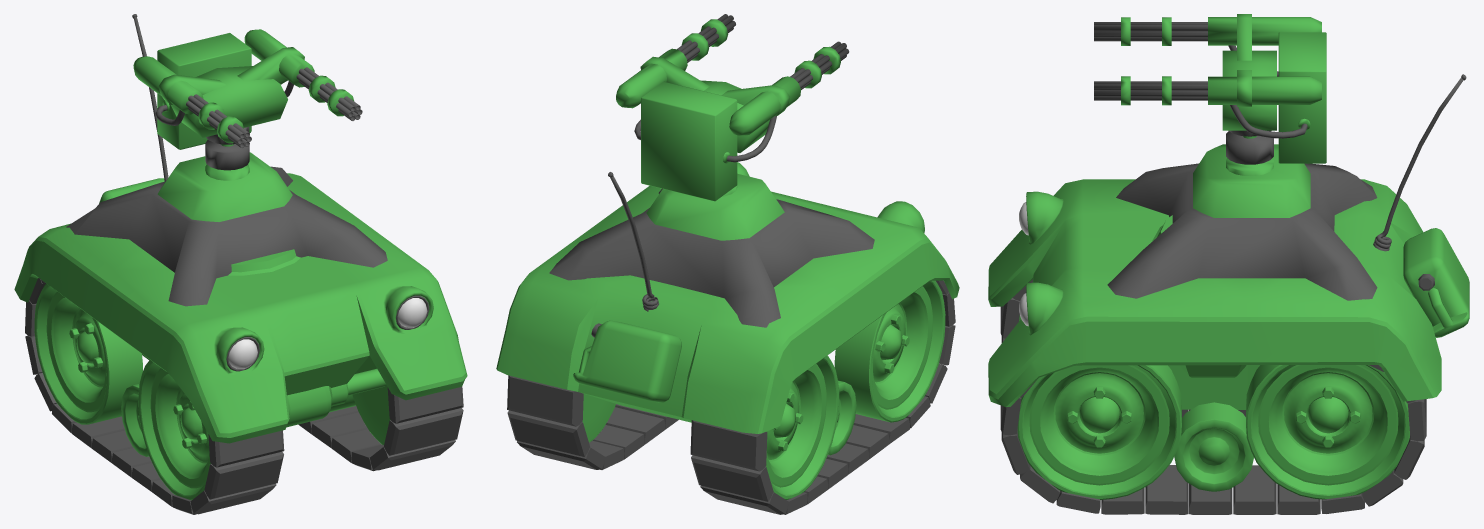
Rendered from shootingTank.fbx.
The picture shows the model from 3 angles, left to right: view 1: azimuth 30°, elevation 25°; view 2: azimuth 150°, elevation 25°; view 3: azimuth 270°, elevation 25°; orthographic projection. The views are drawn at different scales.
Parts seen in each view (by area): view 1: TankChassis, default, TankTracksRight, TankTracksLeft, TankTurret.001; view 2: TankChassis, default, TankTracksRight, TankTracksLeft, TankTurret.001; view 3: TankChassis, TankTracksLeft, default, TankTurret.001, TankTracksRight.
Boxes of the visible parts, <box> form: TankChassis: <box>14,173,467,456</box>; default: <box>66,29,387,306</box>; TankTracksRight: <box>25,278,284,514</box>; TankTracksLeft: <box>298,356,463,471</box>; TankTurret.001: <box>132,14,168,181</box>; TankChassis: <box>496,162,959,455</box>; default: <box>549,14,874,327</box>; TankTracksRight: <box>690,280,955,514</box>; TankTracksLeft: <box>507,375,678,469</box>; TankTurret.001: <box>608,172,658,311</box>; TankChassis: <box>988,179,1469,491</box>; TankTracksLeft: <box>1000,365,1426,514</box>; default: <box>1094,14,1377,300</box>; TankTurret.001: <box>1373,74,1466,251</box>; TankTracksRight: <box>1000,279,1245,417</box>.
Size of the model in its own units: 170 by 219 by 237.
